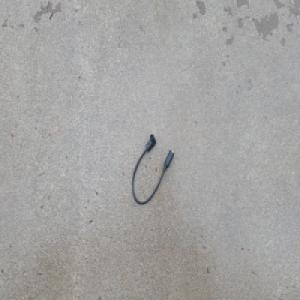Wire: (131, 132, 174, 205)
